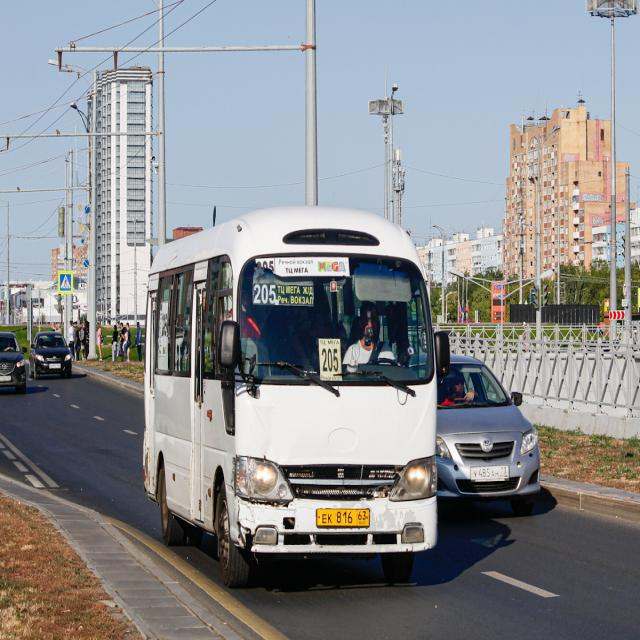number-of-bus: (321, 346, 341, 375), (254, 285, 278, 307)
